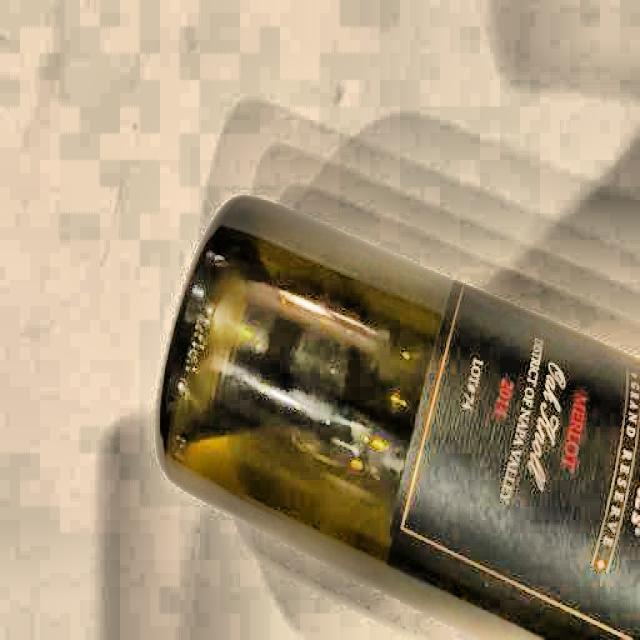glass: (156, 194, 640, 640)
